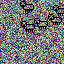sheep: (19, 1, 35, 14), (20, 20, 36, 33), (34, 18, 48, 29), (48, 14, 62, 25), (52, 4, 64, 16)
